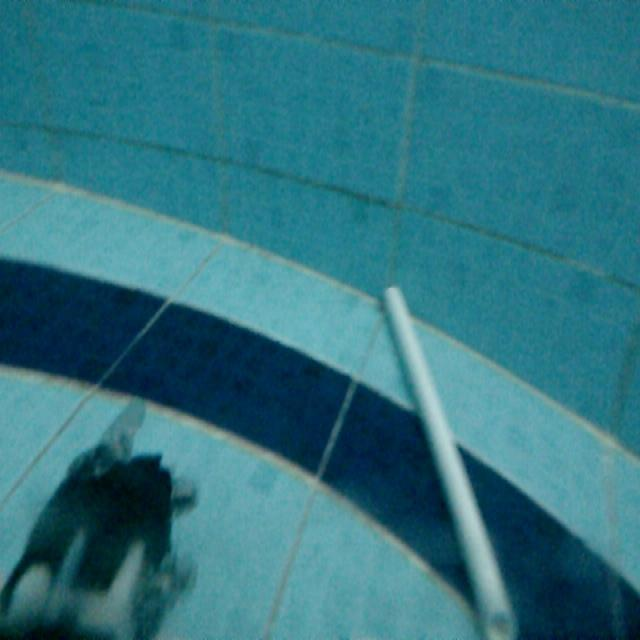Cube: (376, 278, 524, 638)
